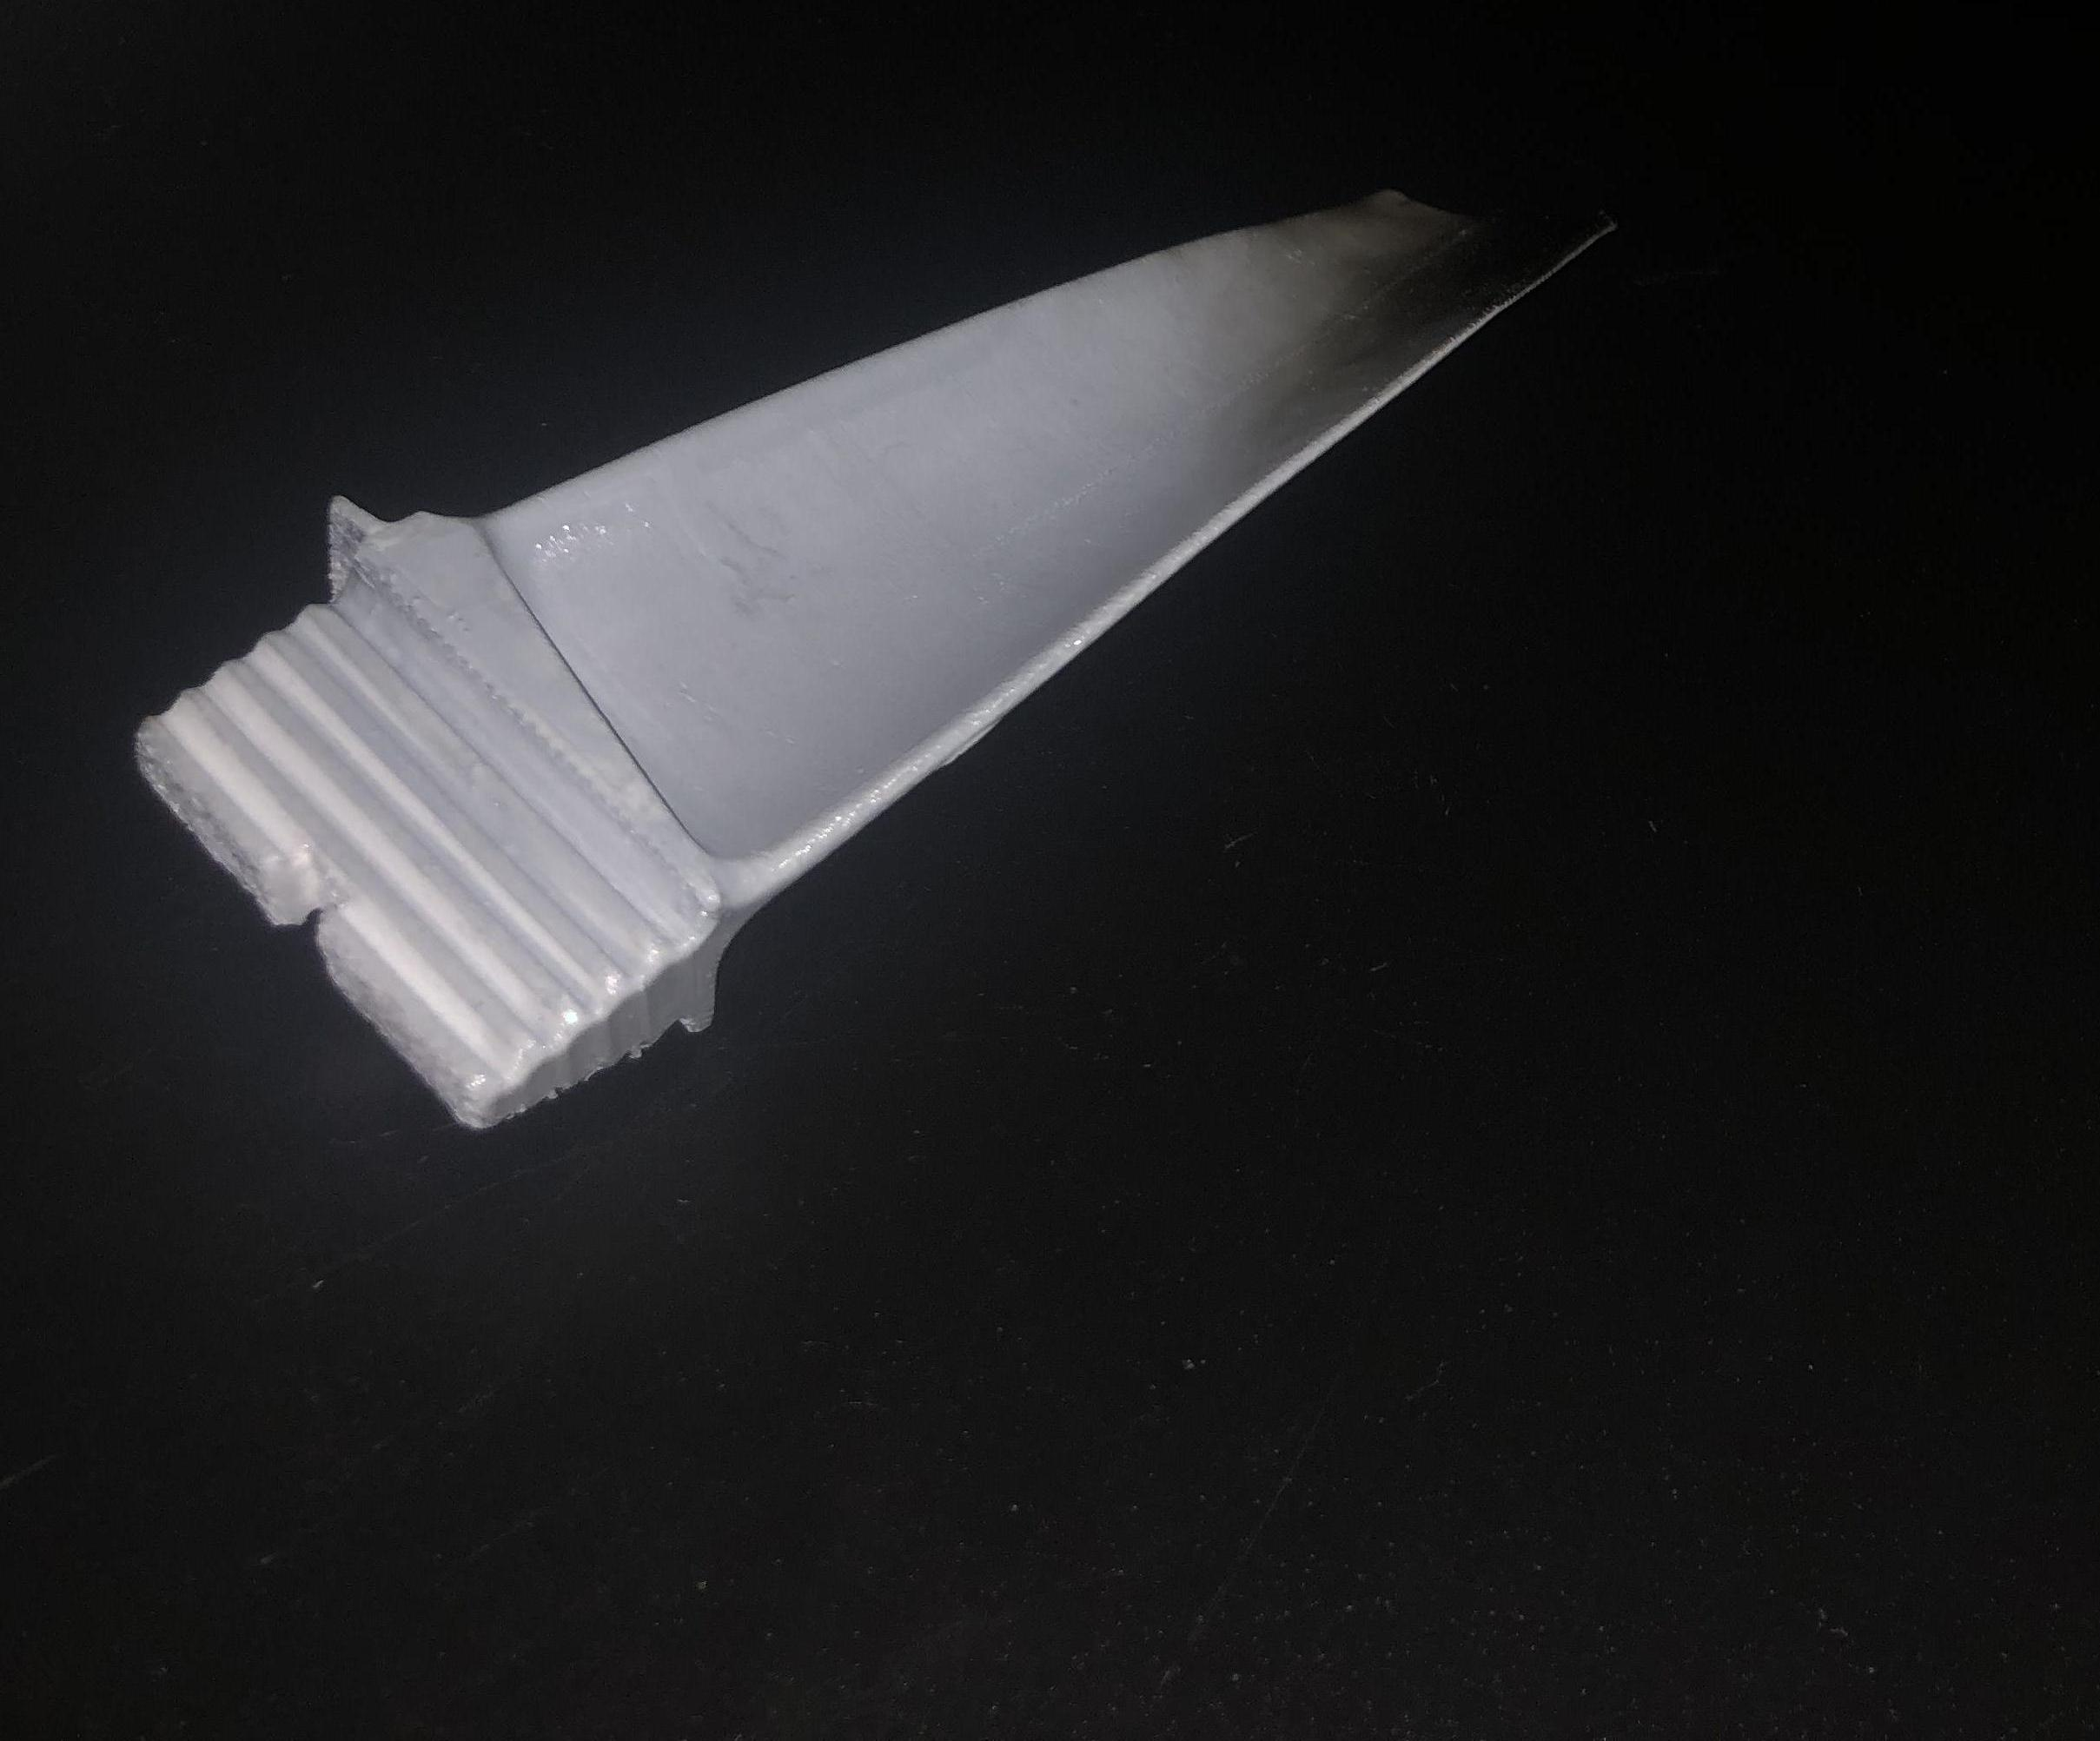ablation: (1329, 206, 1516, 345)
